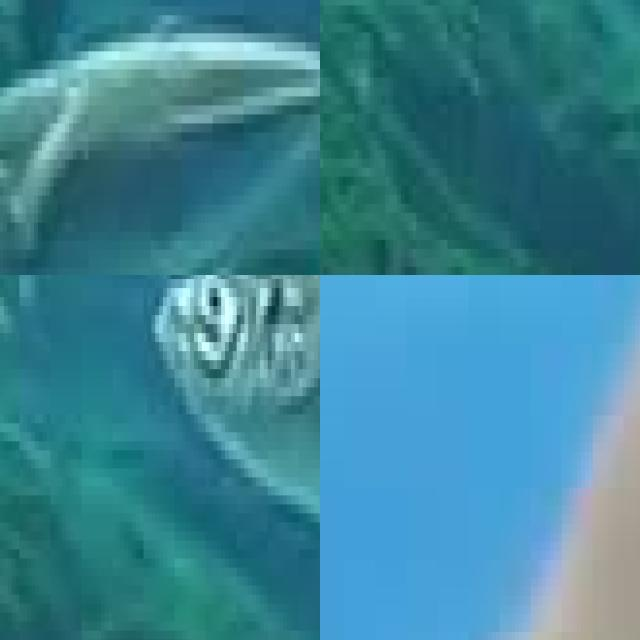fish: (0, 0, 320, 275), (120, 275, 320, 640)
